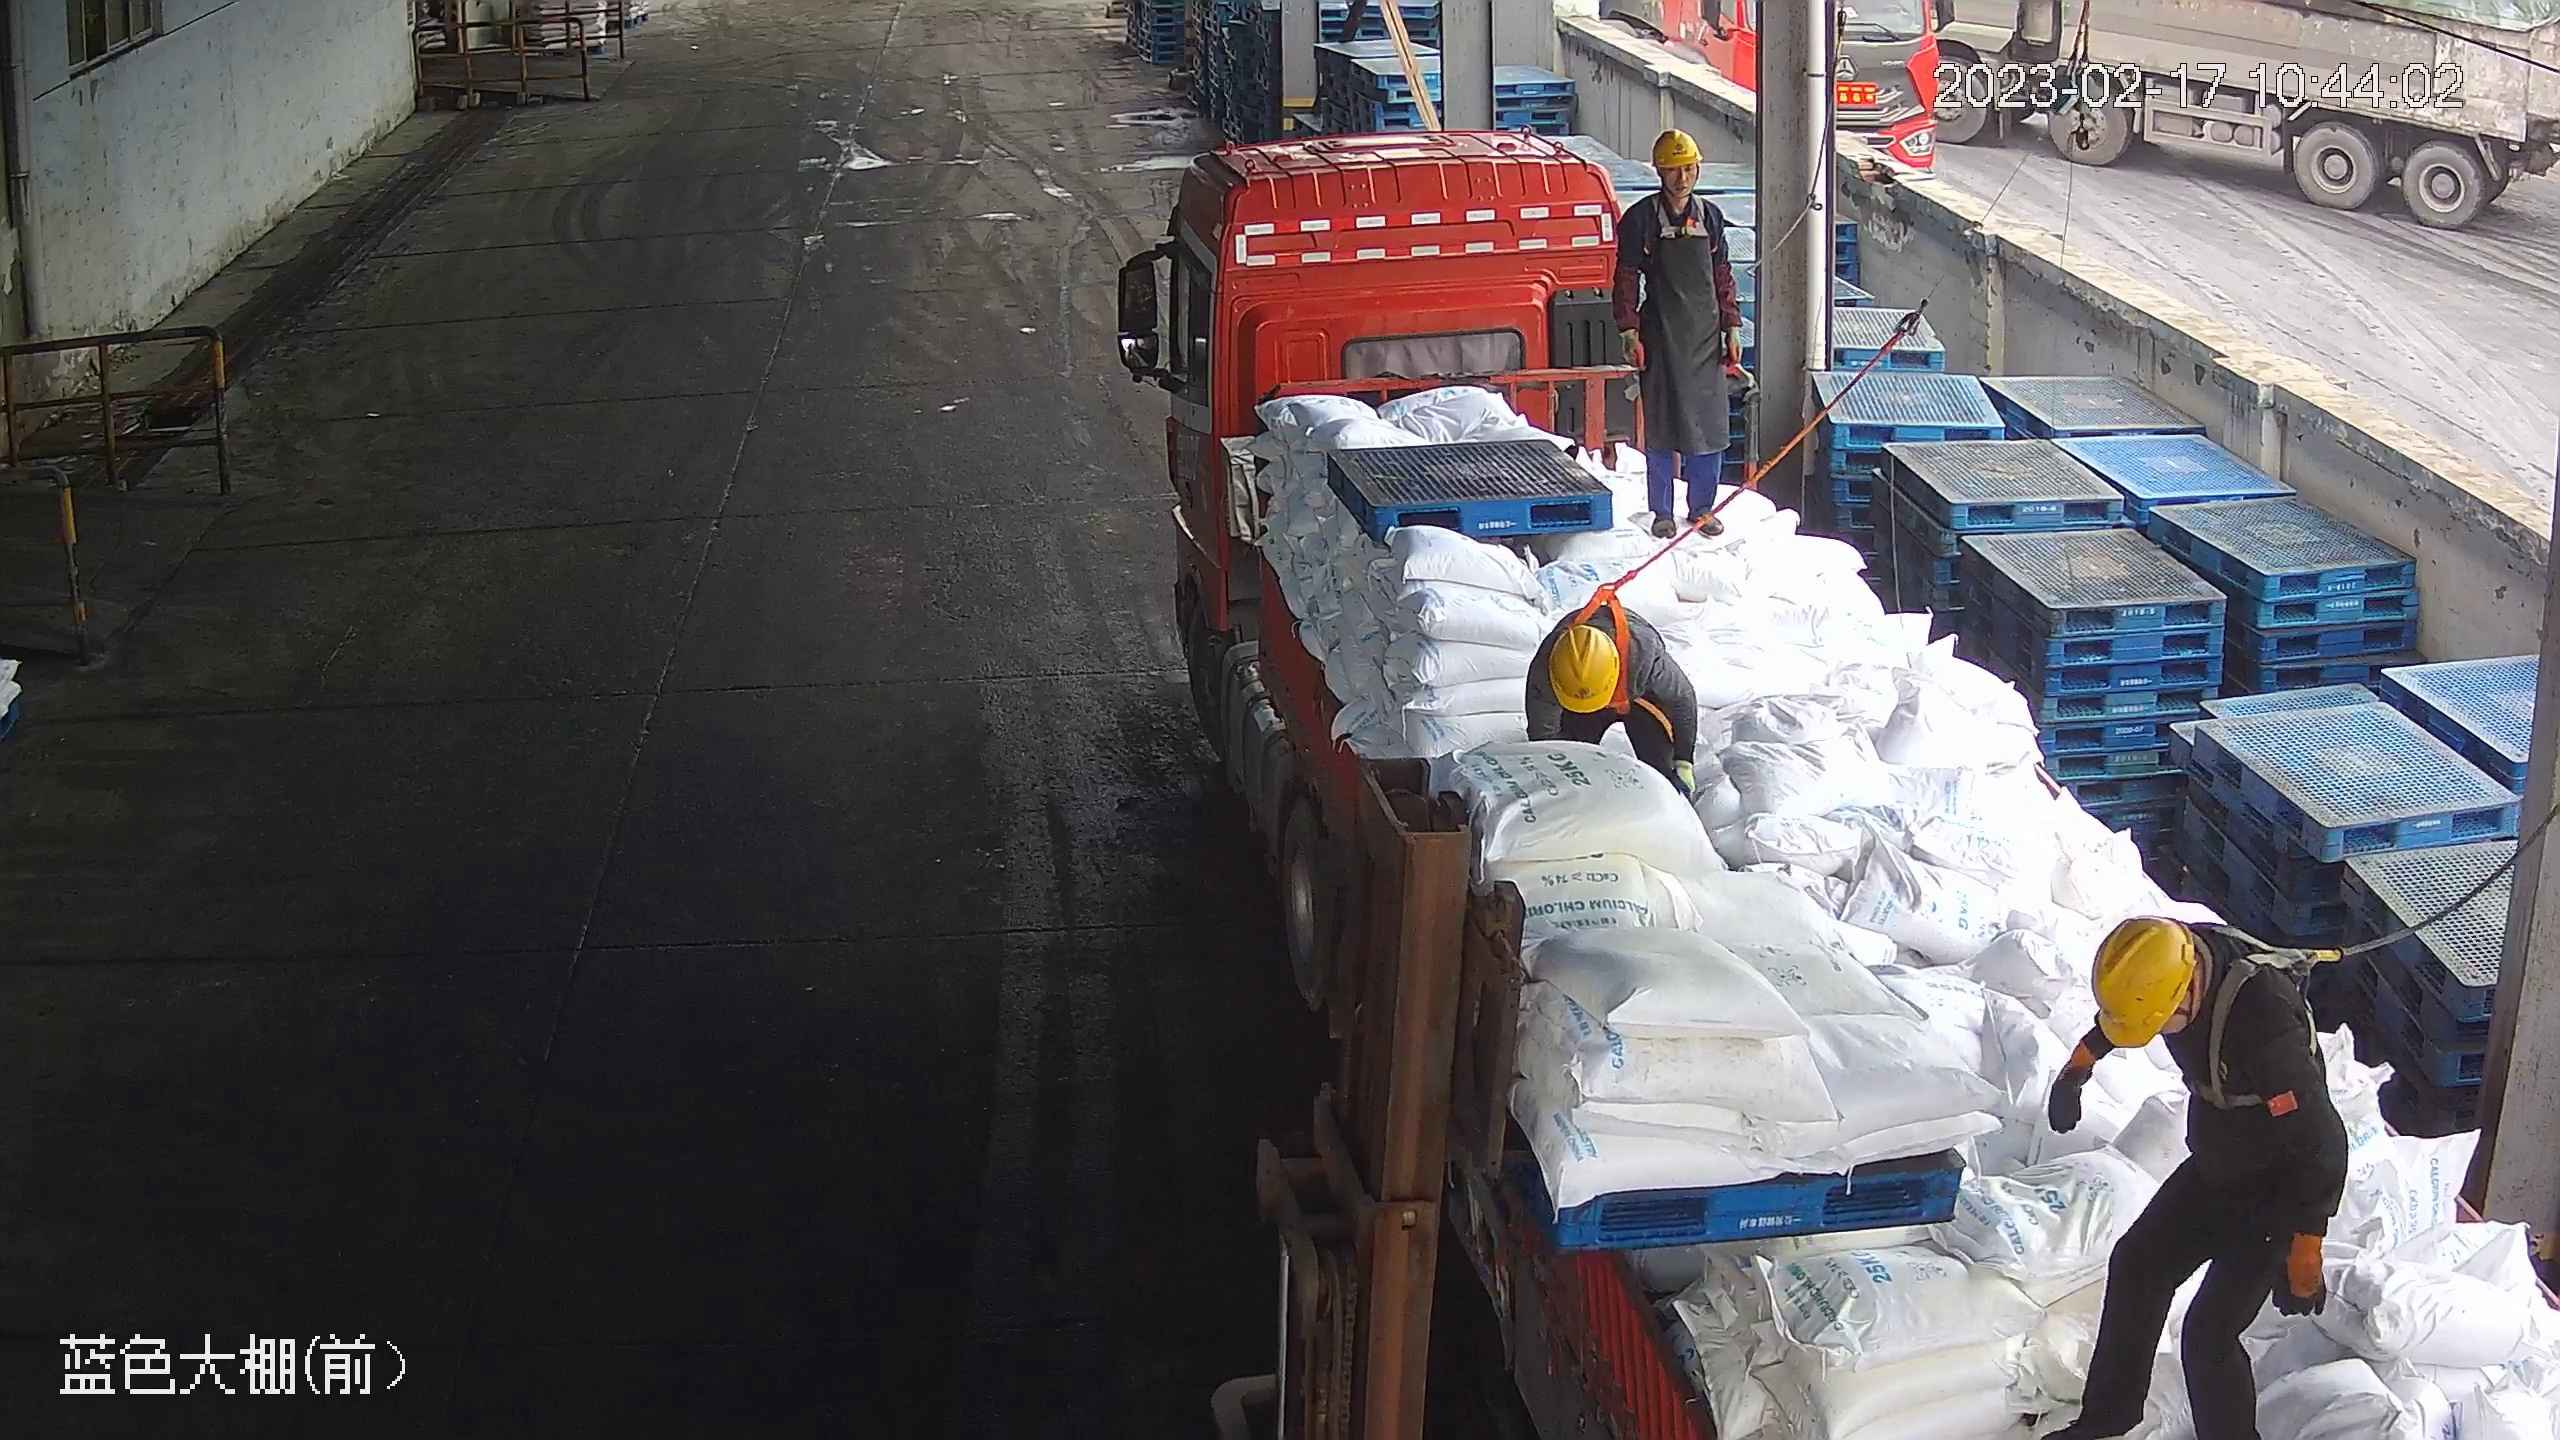belt: (2195, 935, 2334, 1127), (1566, 578, 1644, 662), (1642, 189, 1712, 240)
head: (2074, 917, 2296, 1111), (1537, 600, 1666, 720), (1612, 128, 1723, 259)
helmet: (2091, 917, 2198, 1050), (1549, 627, 1620, 710), (1652, 128, 1703, 169)
people: (2039, 913, 2352, 1440), (1610, 128, 1744, 537), (1522, 603, 1695, 806)
truck: (1117, 139, 2560, 1440)
